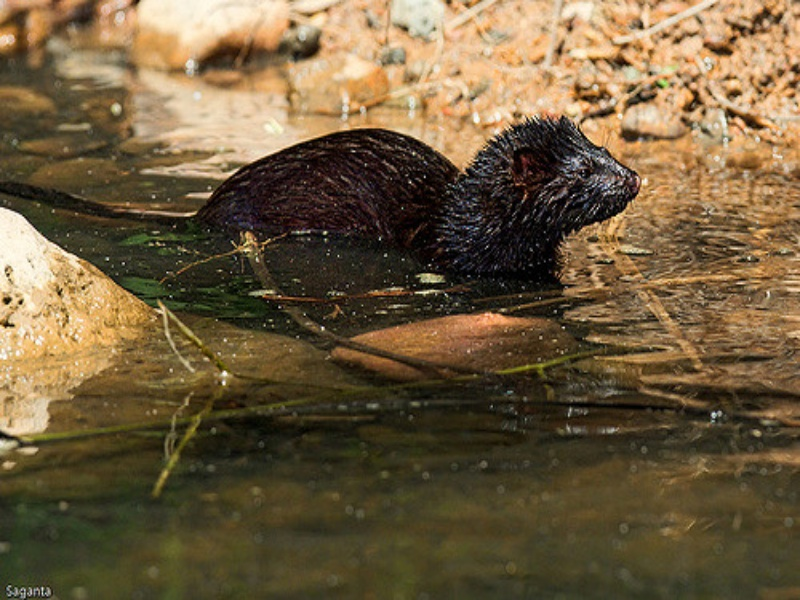minkish: (140, 110, 649, 279)
